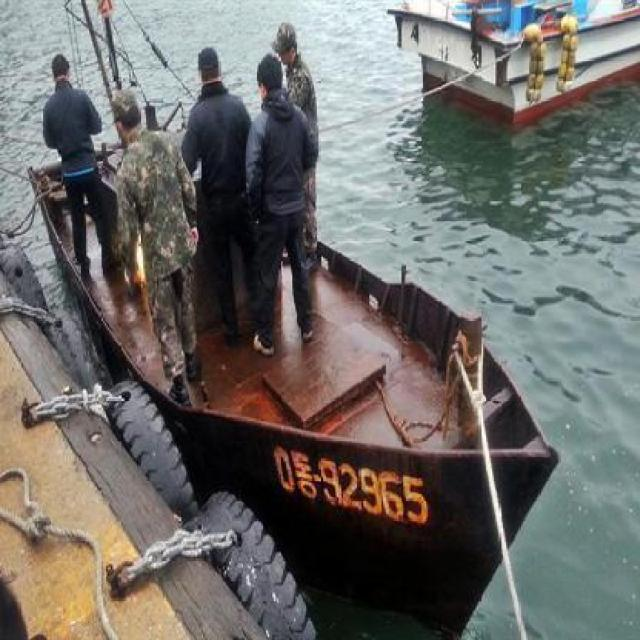fish-b: (9, 124, 565, 640)
